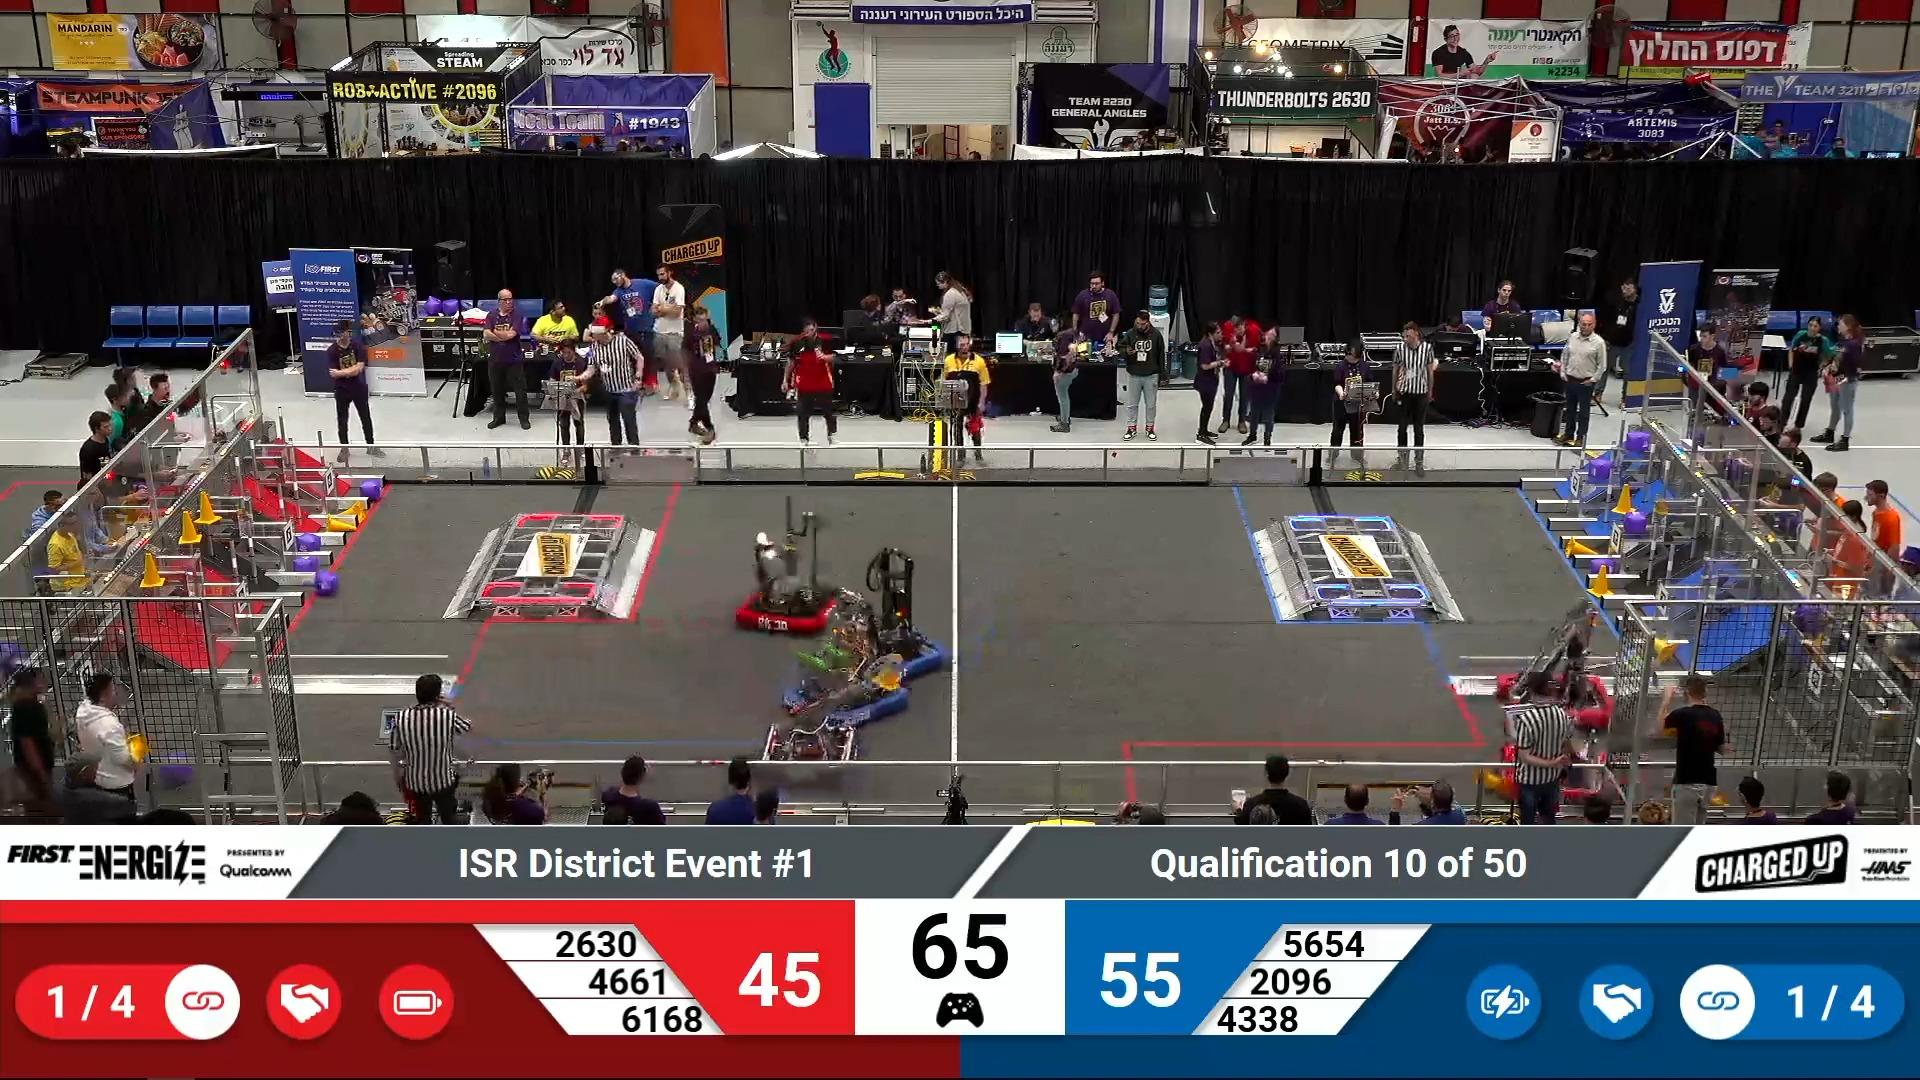robot: (725, 530, 849, 642), (828, 579, 948, 686), (783, 634, 910, 732), (1494, 719, 1617, 807), (756, 698, 869, 789), (1491, 657, 1625, 732)
